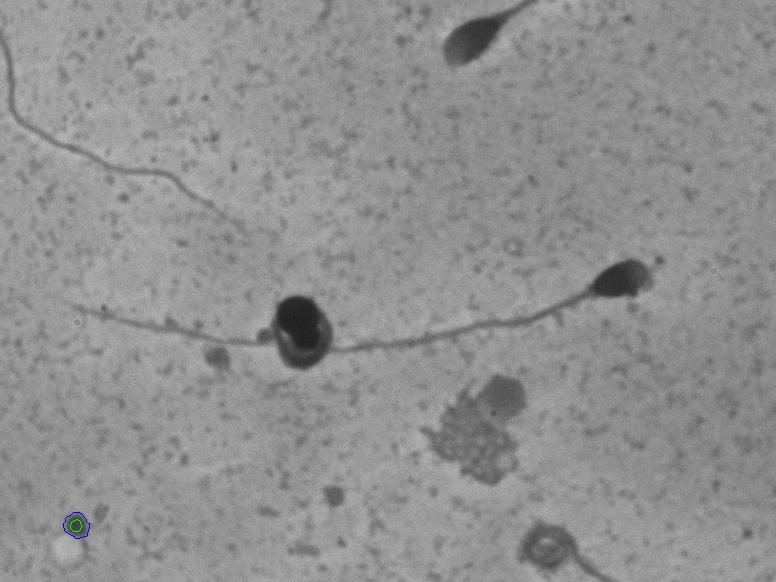Normal: (48, 249, 655, 358)
